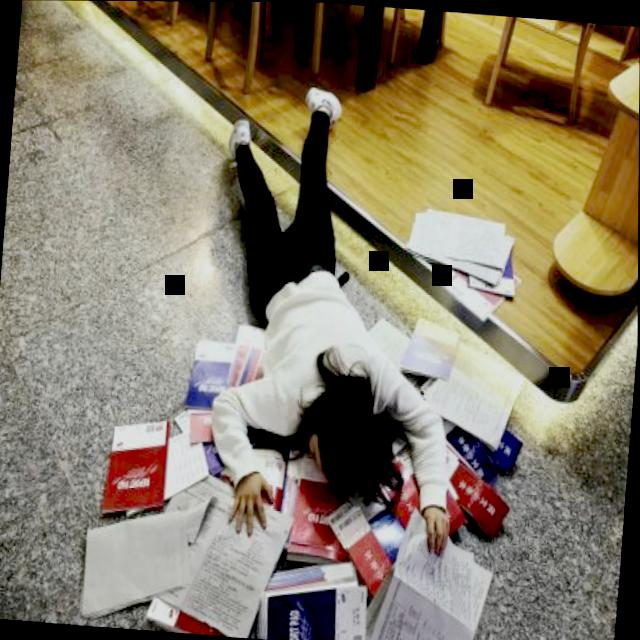Fall-Detected: (177, 36, 510, 565)
